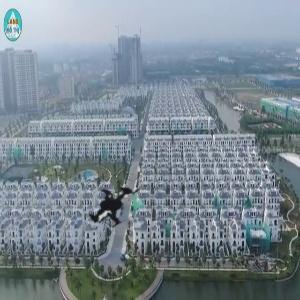drone: (56, 145, 200, 289)
